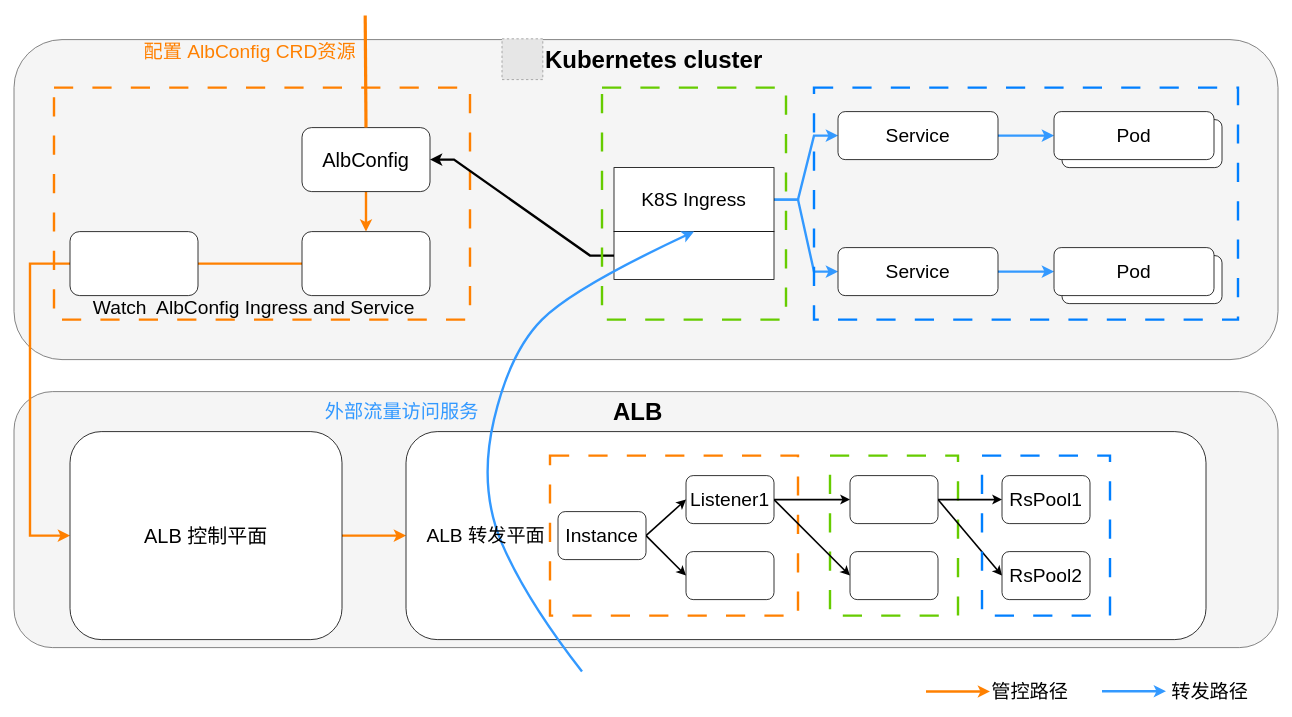
Some shapes in this 1292 by 717 pixel diagram are drawn without their labels. Grey dashed boxes stand in for pictures. The centre of each missing label's shape, as x and y in pixels:
"+ Annotation" belongs at (693,255).
"ALB Ingress Controller" belongs at (133,263).
"API Server" belongs at (365,263).
"Listener2" belongs at (729,575).
"Rule1" belongs at (893,499).
"Rule2" belongs at (893,575).
